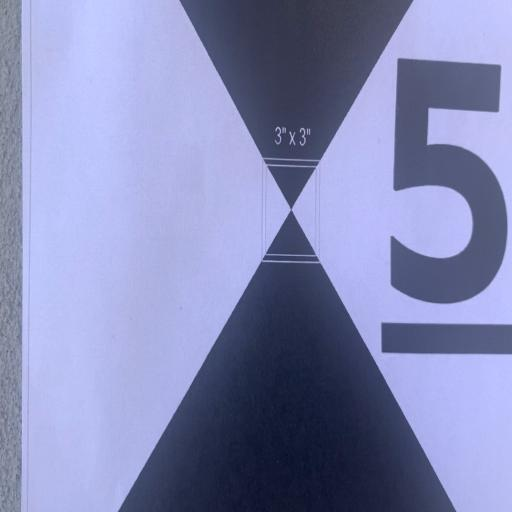target5: (21, 0, 512, 510)
